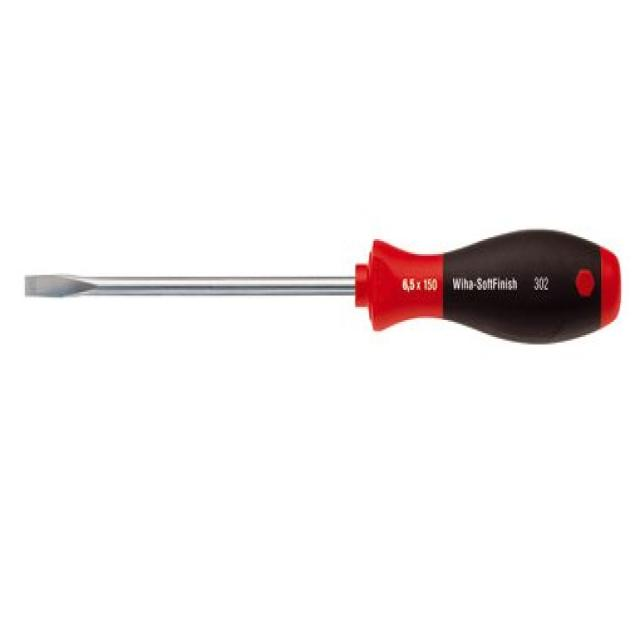screw_driver: (26, 231, 621, 343)
